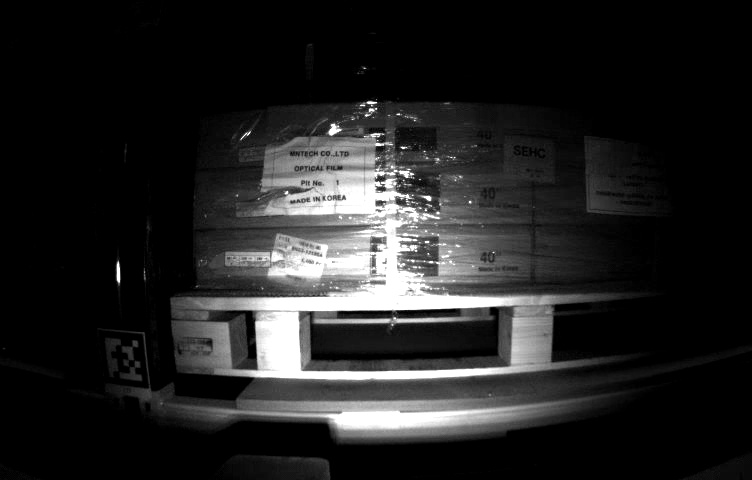True Barcode: (274, 230, 323, 292)
